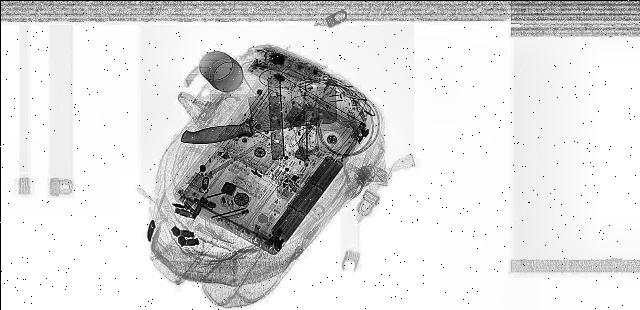Knife: (162, 84, 356, 146)
